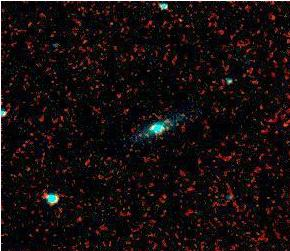star: (64, 203, 94, 233)
